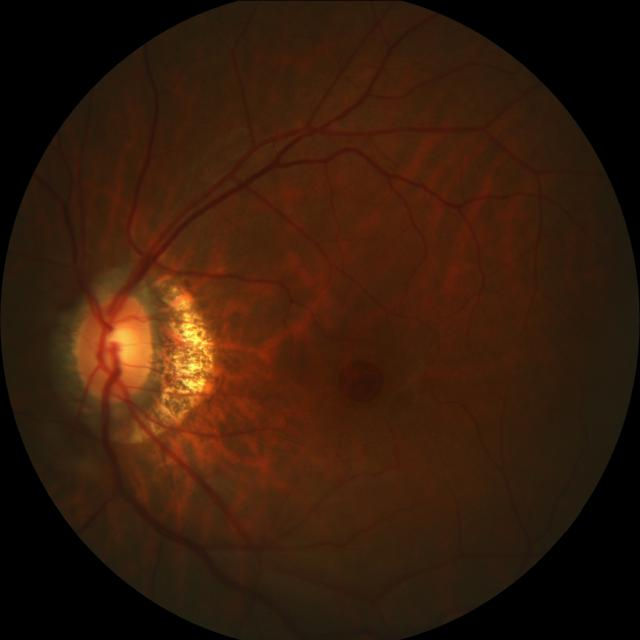OC: (103, 325, 136, 368)
OD: (76, 292, 152, 400)
